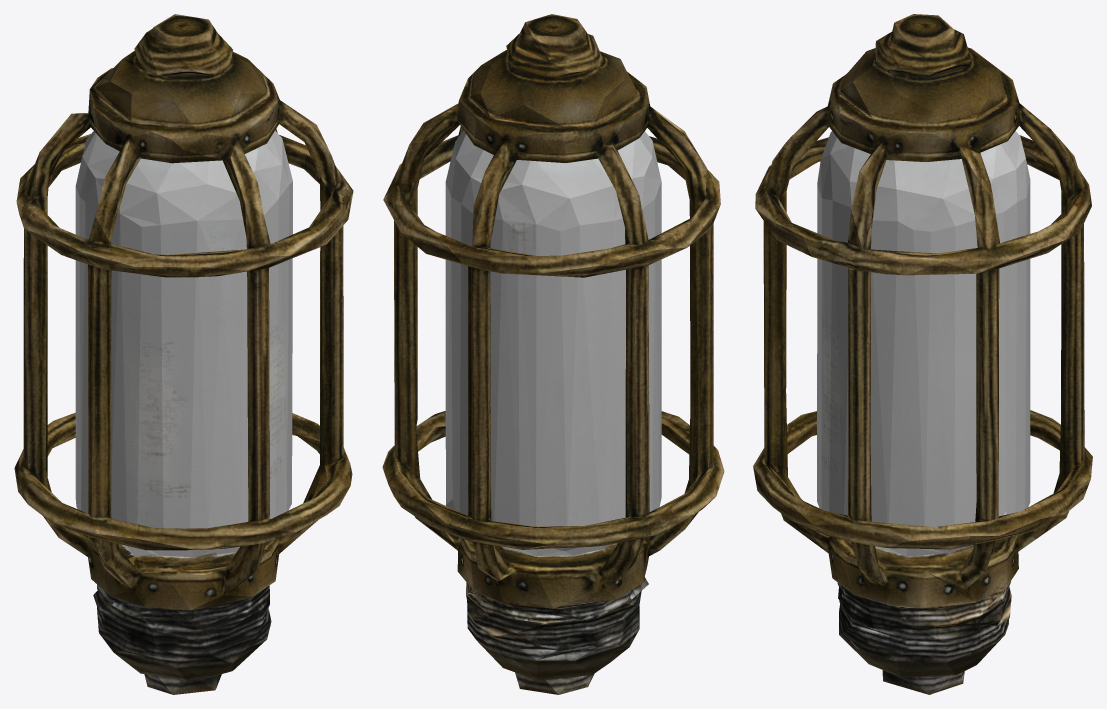
The picture shows the model from 3 angles, left to right: view 1: azimuth 30°, elevation 25°; view 2: azimuth 150°, elevation 25°; view 3: azimuth 270°, elevation 25°; orthographic projection.
Visible parts, largest first — view 1: geometry_0; view 2: geometry_0; view 3: geometry_0.
Boxes of the visible parts, bbox=[...] form: geometry_0: bbox=[14, 14, 353, 694]; geometry_0: bbox=[382, 14, 724, 694]; geometry_0: bbox=[753, 14, 1092, 694].
Size of the model in its own units: 0.4736 by 1 by 0.4727.
Materials: 1 (1 with a texture image).
